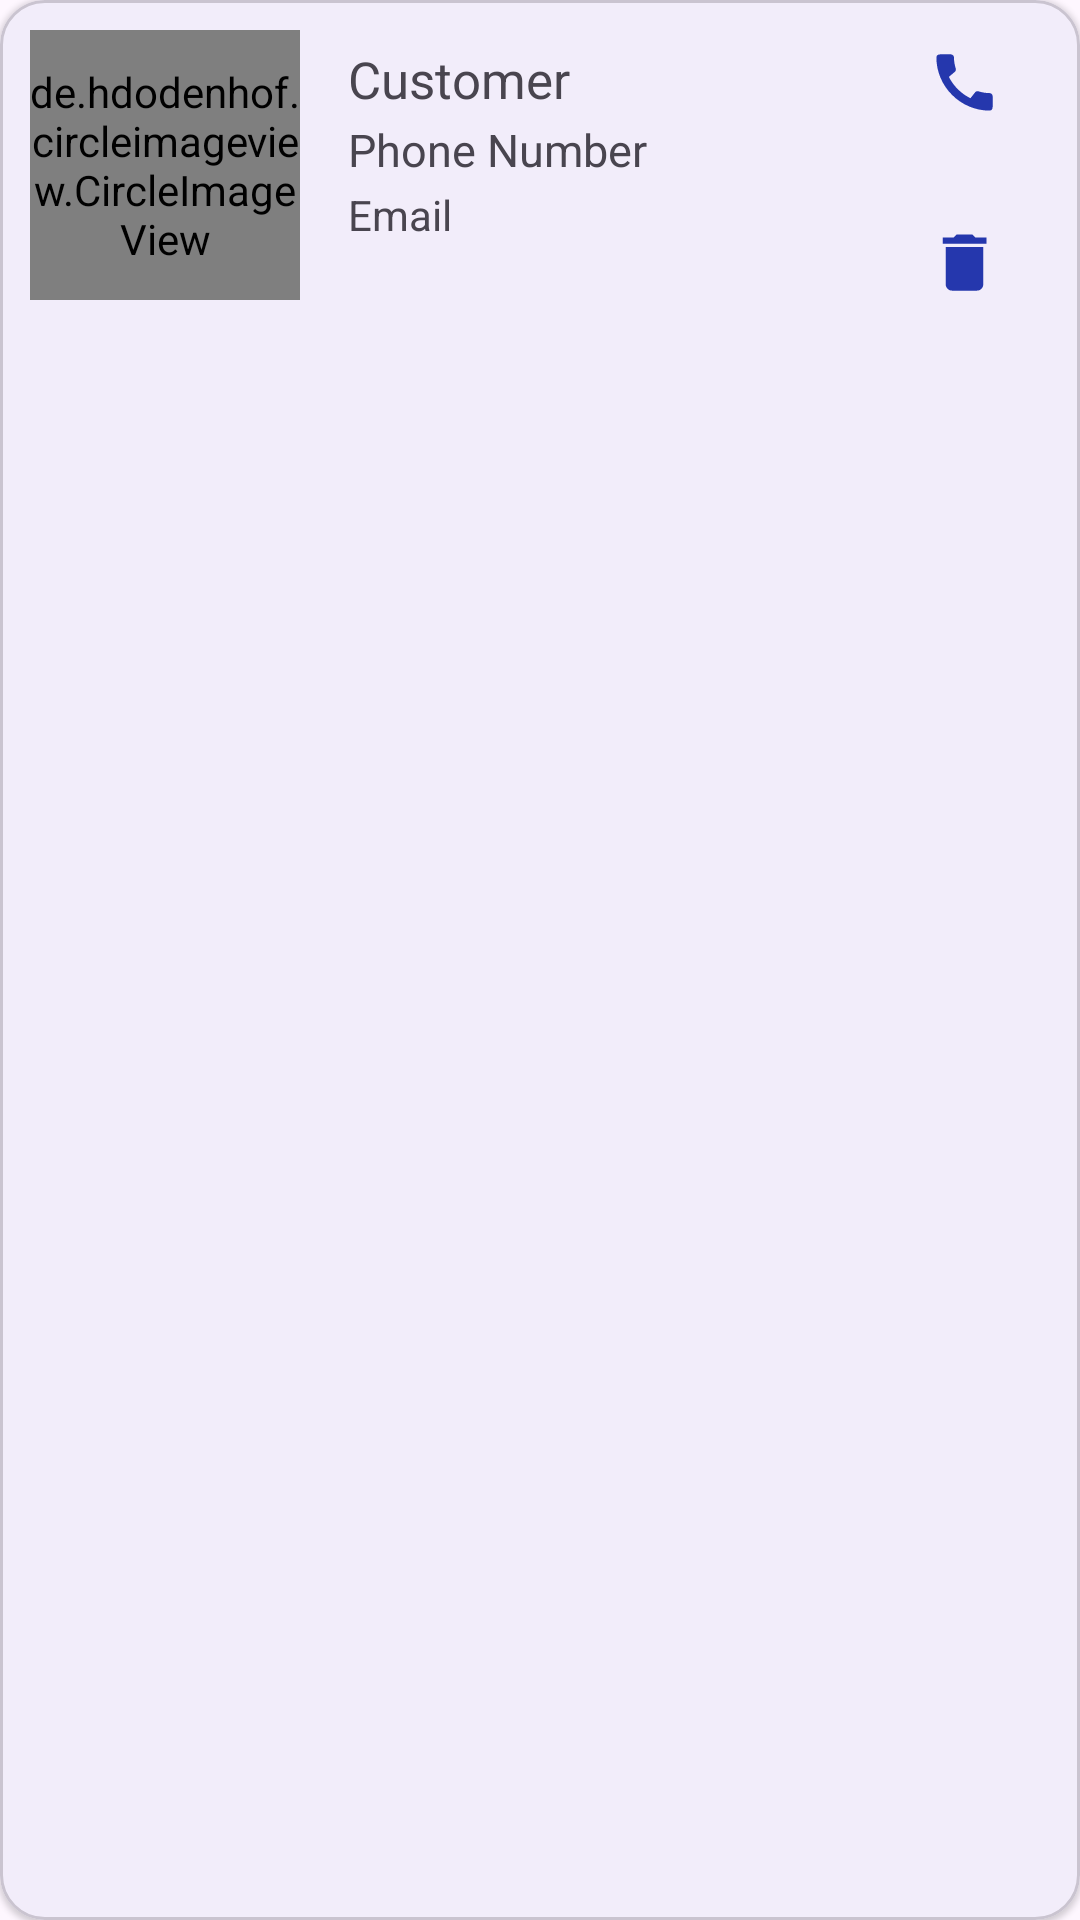

Screen size 1080 x 1920. Icon name, then its center in pixels as (x,y):
call: (964,82)
delete: (964,262)
